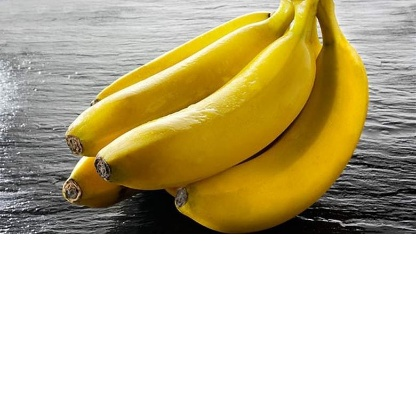chuoi: (53, 1, 369, 231)
